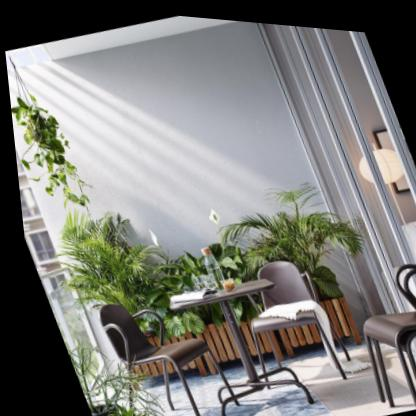Chair: (78, 273, 242, 416), (212, 240, 355, 401), (318, 222, 416, 414)
